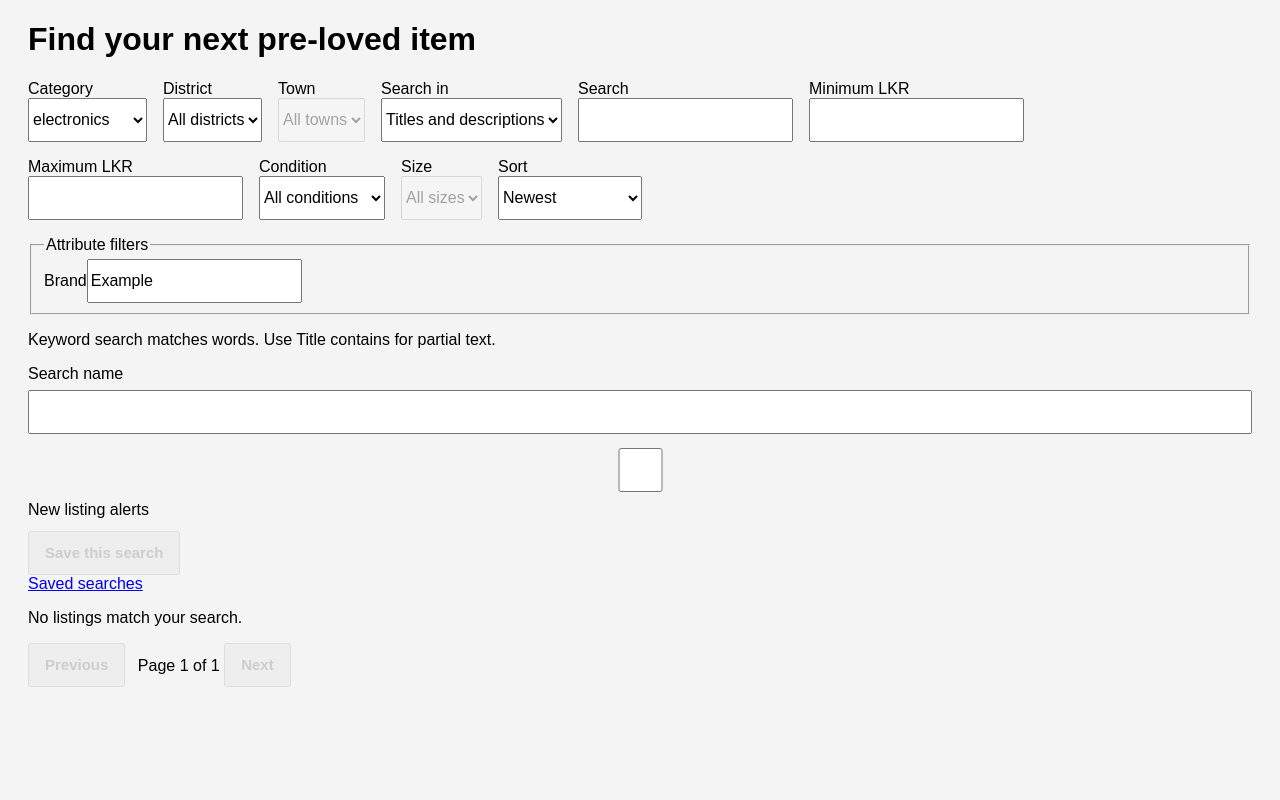
Test: save opts in to alerts explicitly and includes attribute filters
Expected: the text "No listings match your search." is shown, top-left (28, 609), bottom-right (242, 626)
Expected: the checkbox labelled "New listing alerts" is not checked, top-left (32, 448), bottom-right (1249, 492)
Type "Devices" into the field labelled "Search name". click: (640, 412)
box: top-left (28, 390), bottom-right (1252, 434)
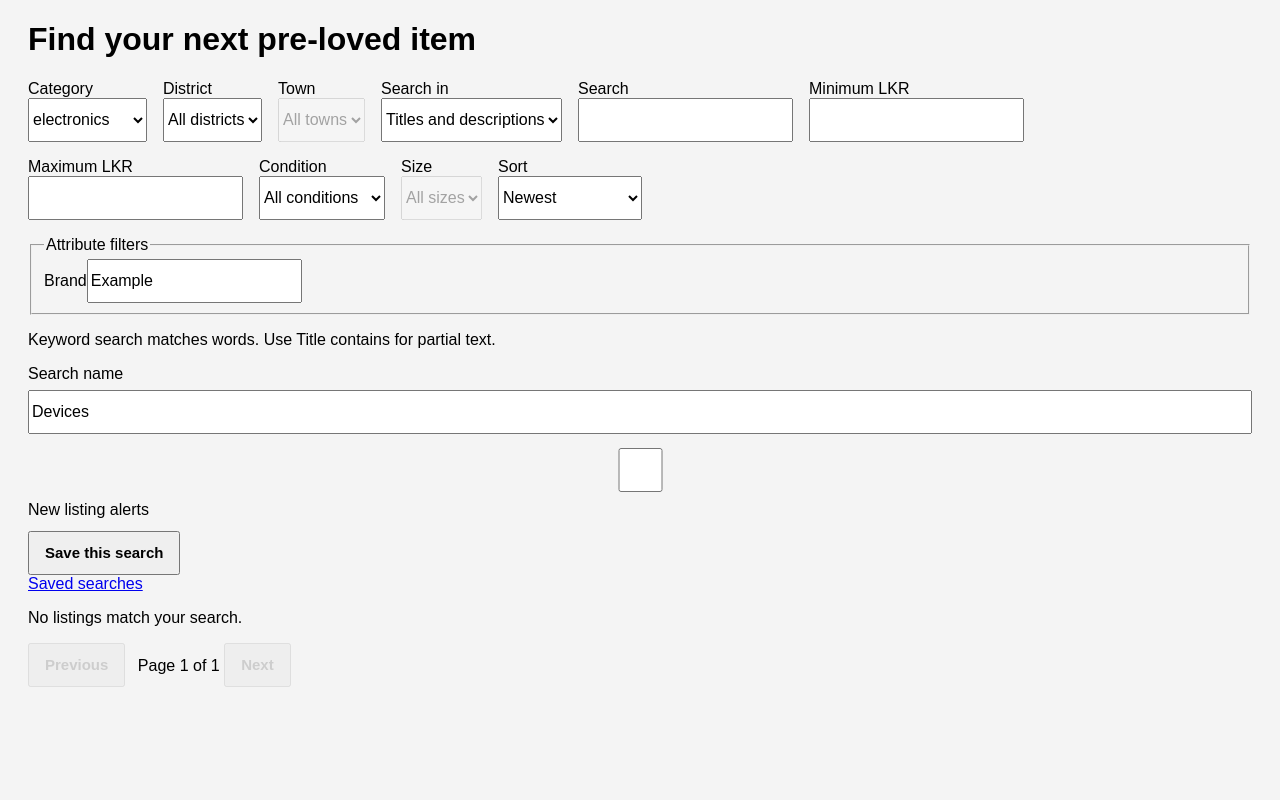
Click the checkbox labelled "New listing alerts". click: (640, 470)
box: top-left (32, 448), bottom-right (1249, 492)
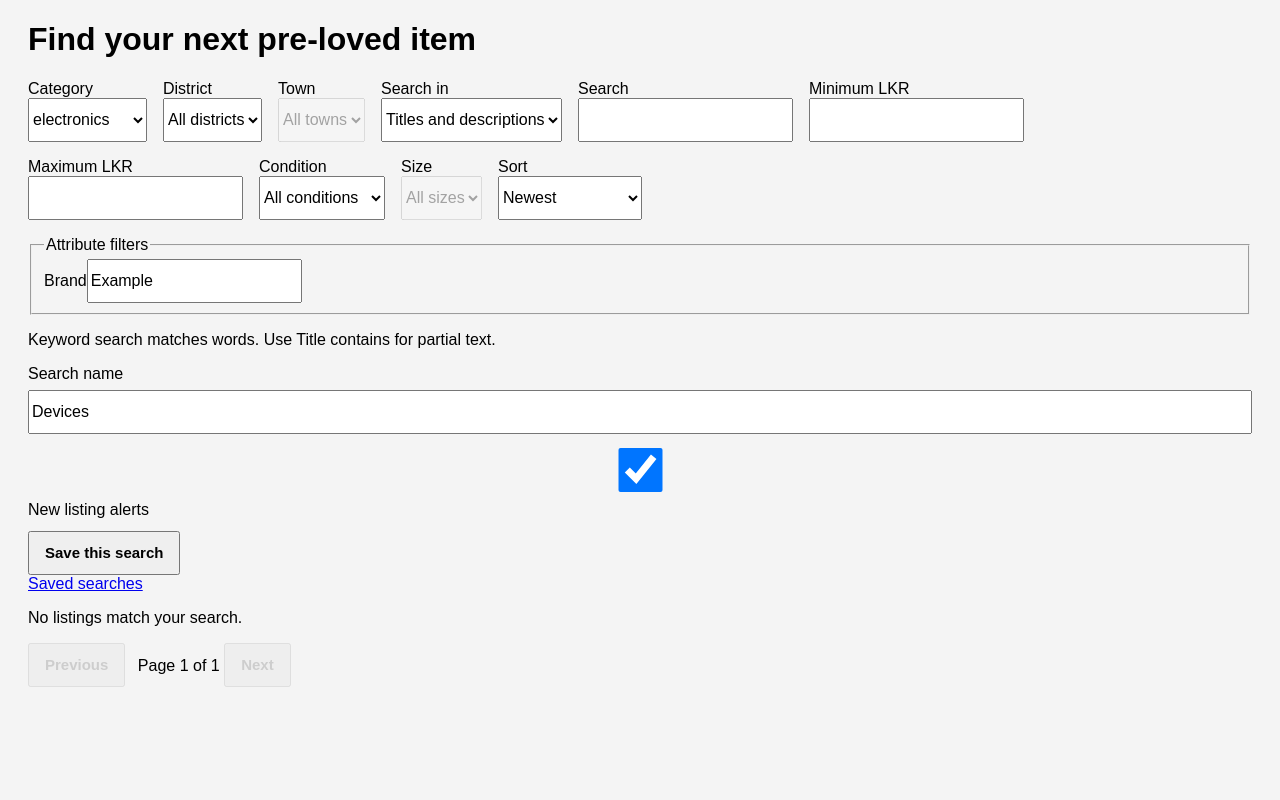
Click the button "Save this search". click: (104, 553)
box: top-left (28, 531), bottom-right (180, 575)
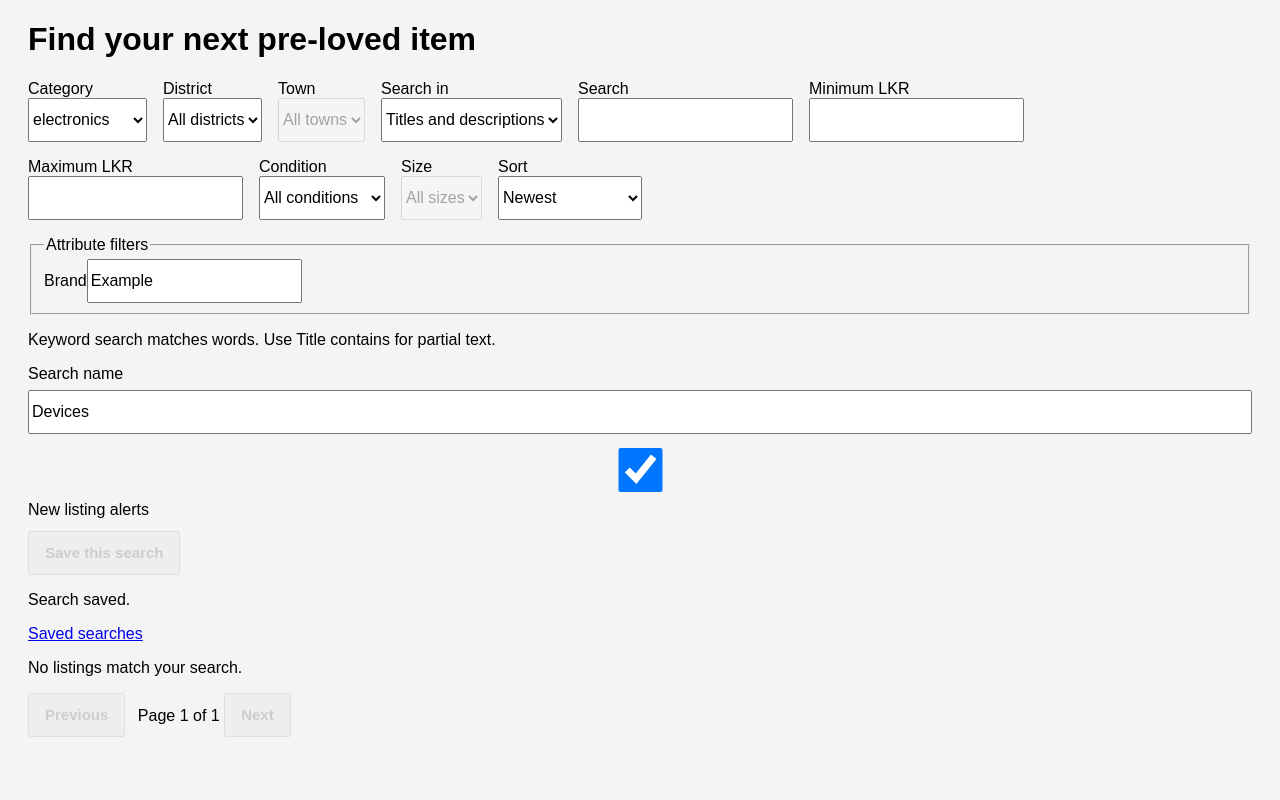
Now the text "Search saved." is shown, box top-left (28, 591), bottom-right (130, 608)
